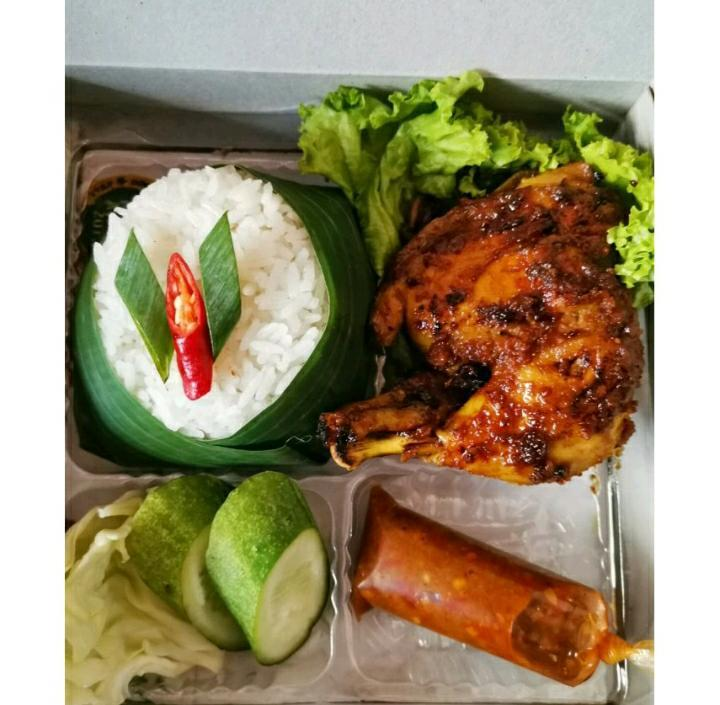buah_sayur_lainnya: (328, 104, 453, 190), (226, 517, 316, 627), (63, 560, 132, 694), (150, 510, 197, 604)
daging: (425, 232, 598, 431)
makanan_berpati: (248, 245, 299, 362)
